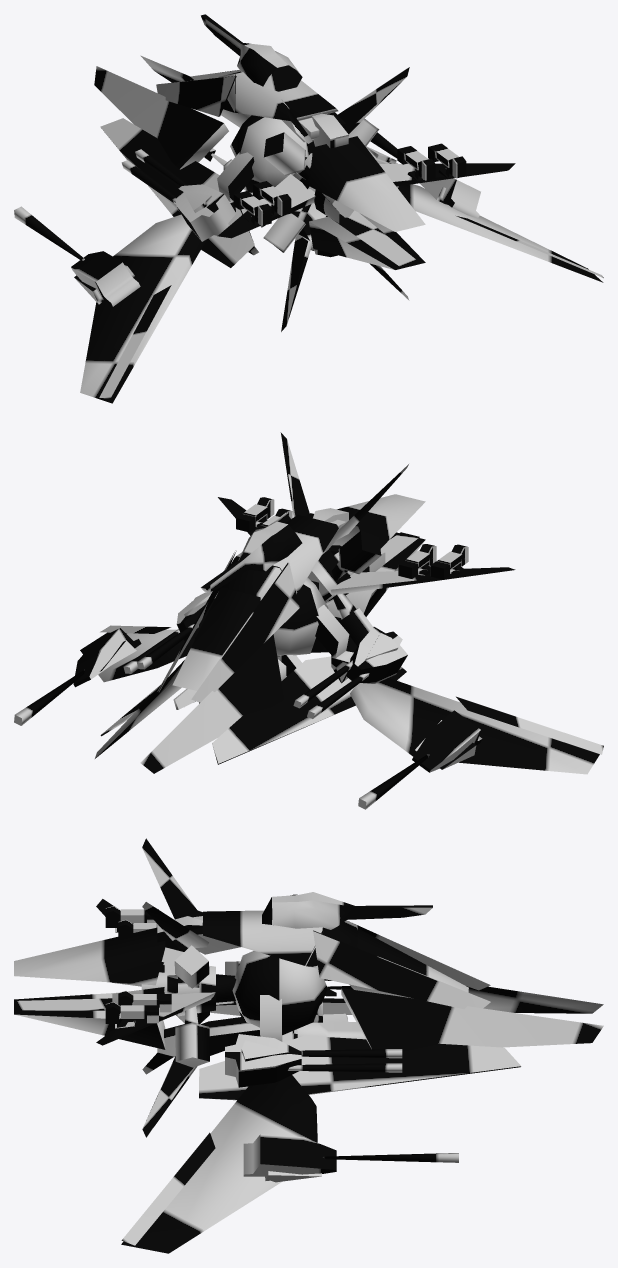
Rendered from pet_14.obj.
The picture shows the model from 3 angles, top to bottom: view 1: azimuth 30°, elevation 25°; view 2: azimuth 150°, elevation 25°; view 3: azimuth 270°, elevation 25°; orthographic projection.
Visible parts, largest first — view 1: main; view 2: main; view 3: main.
Boxes of the visible parts, x1=… form: main: x1=14, y1=14, x2=603, y2=403; main: x1=14, y1=432, x2=603, y2=809; main: x1=14, y1=838, x2=603, y2=1253.
Bounding box in the file's own units: 111 × 53.37 × 110.
Materials: 1 (1 with a texture image).
